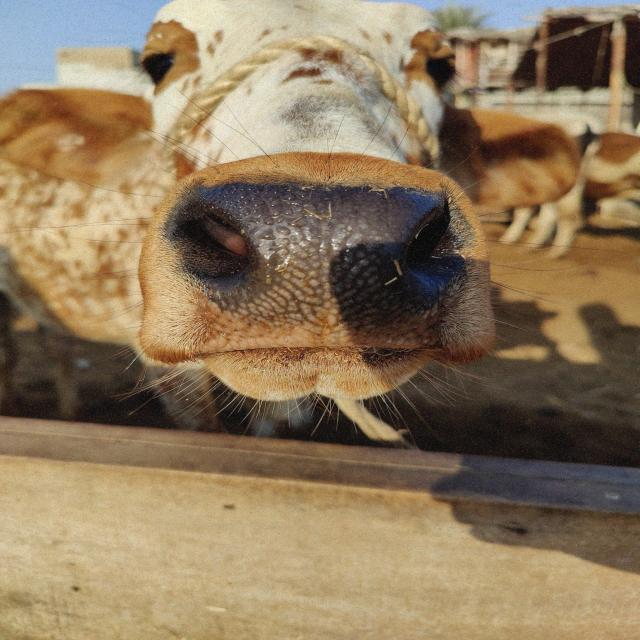muzzles: (170, 158, 476, 358)
